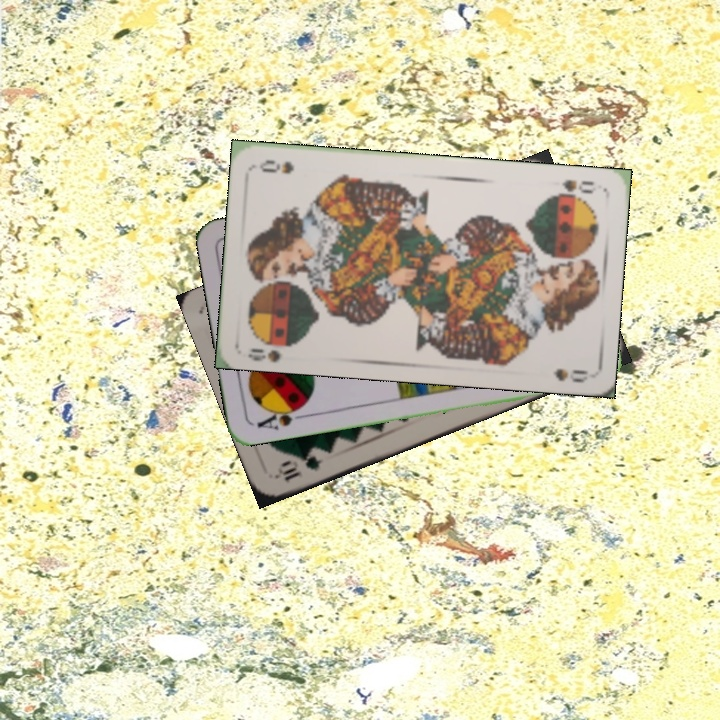G10: (273, 451, 327, 484)
SA: (253, 400, 311, 433)
SO: (244, 335, 300, 364), (546, 175, 598, 200)
